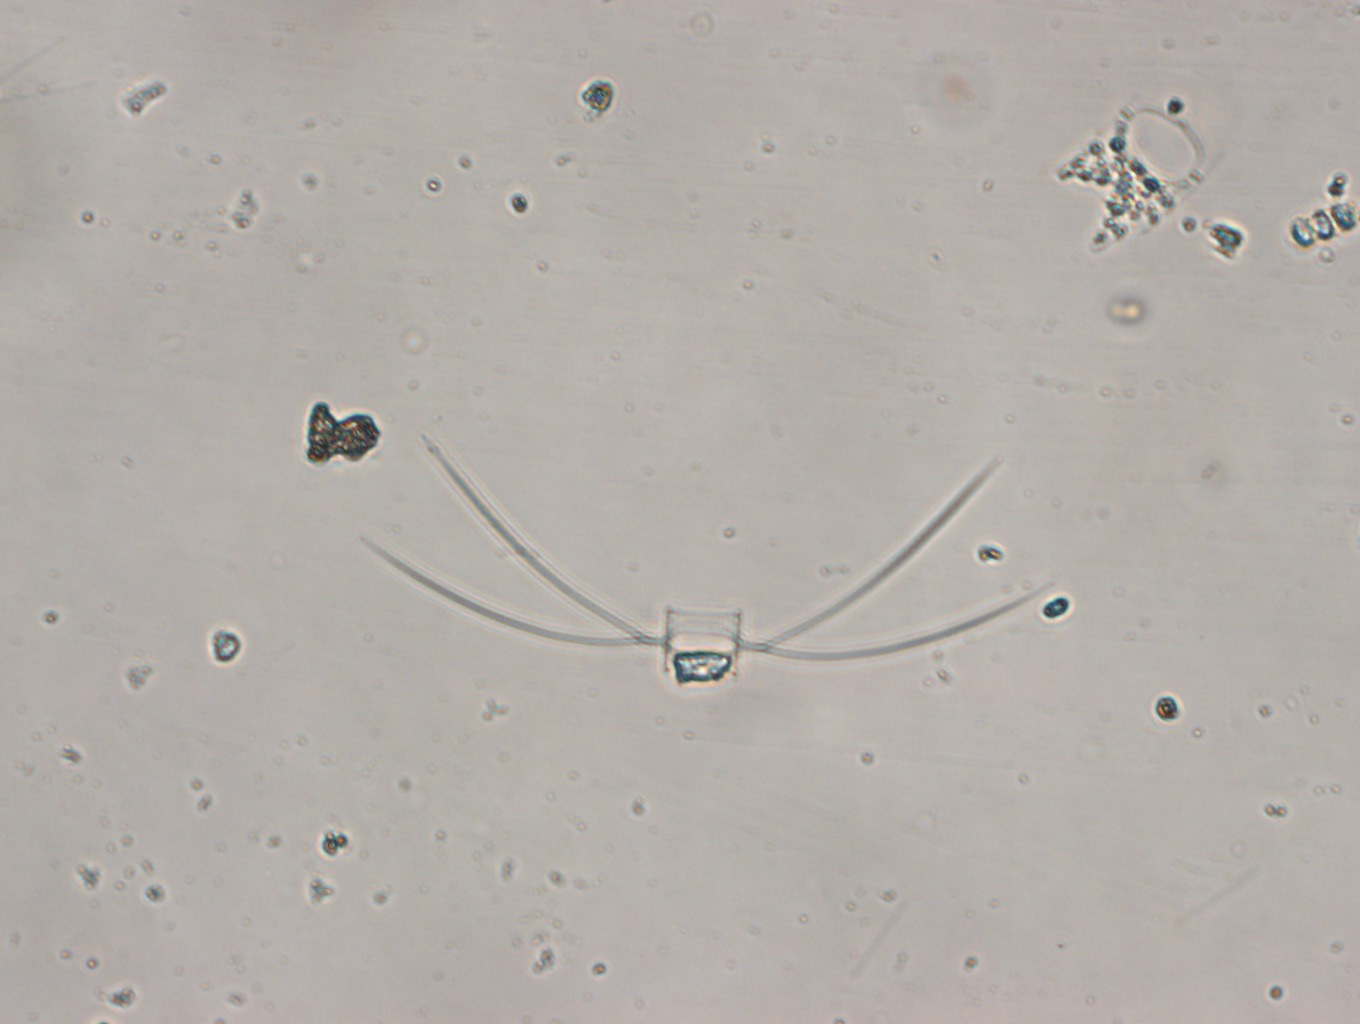chaetoceros: (376, 444, 1073, 689)
